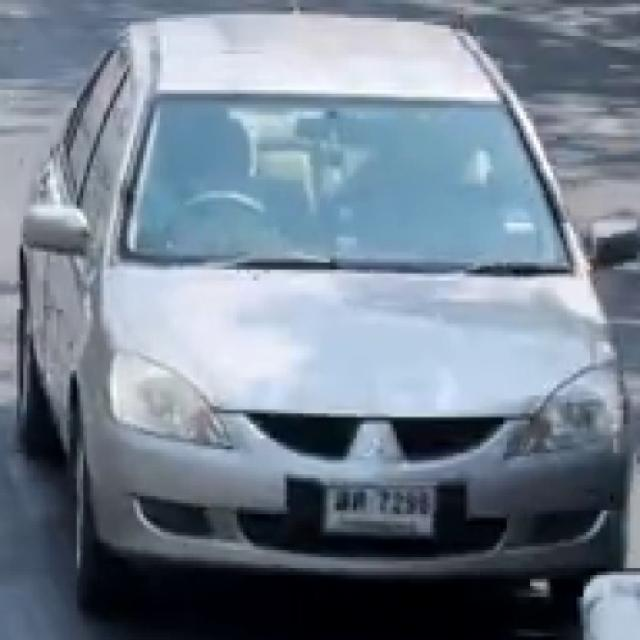plate: (321, 486, 434, 536)
